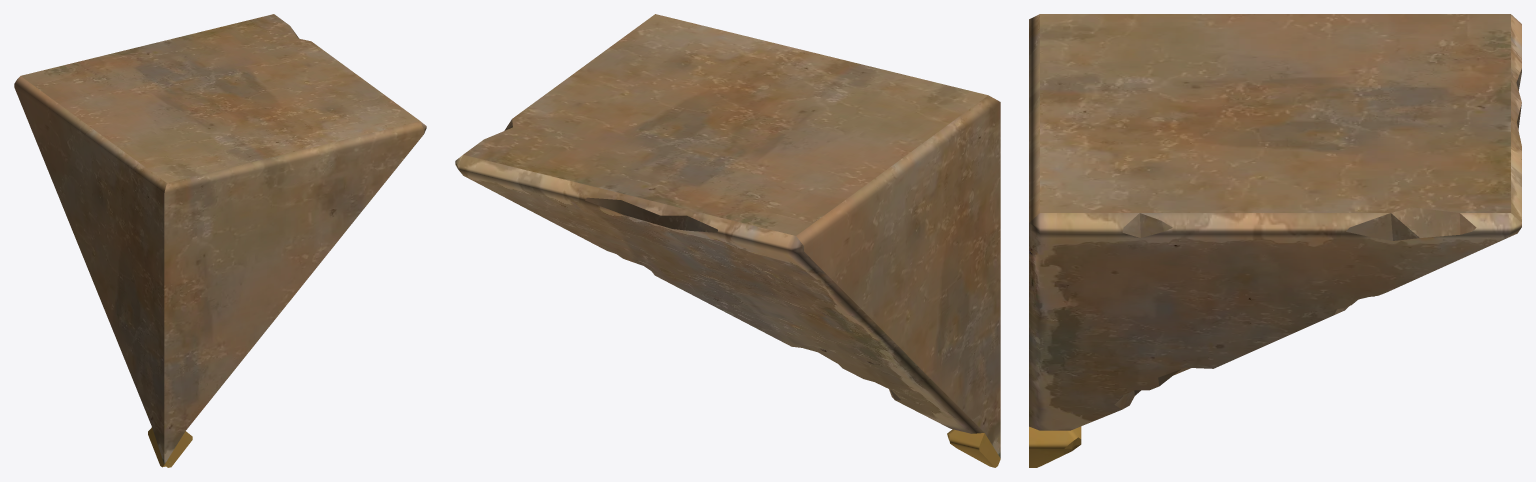
The picture shows the model from 3 angles, left to right: view 1: azimuth 30°, elevation 25°; view 2: azimuth 150°, elevation 25°; view 3: azimuth 270°, elevation 25°; orthographic projection. The views are drawn at different scales.
Parts seen in each view (by area): view 1: SM_Vault_4m_Ceiling_01_V3_LOD0; view 2: SM_Vault_4m_Ceiling_01_V3_LOD0; view 3: SM_Vault_4m_Ceiling_01_V3_LOD0.
Part boxes in pixels (x1,y1,x2,y2): SM_Vault_4m_Ceiling_01_V3_LOD0: (14, 14, 426, 467); SM_Vault_4m_Ceiling_01_V3_LOD0: (455, 14, 1000, 467); SM_Vault_4m_Ceiling_01_V3_LOD0: (1029, 14, 1521, 467).
Bounding box in the file's own units: 2.01 × 2.03 × 2.
2 materials, 2 textured.
